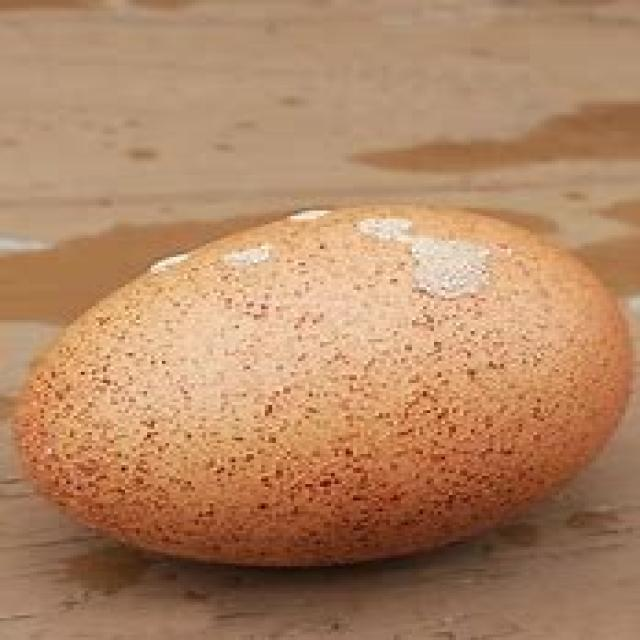Calcium Deposit Egg: (26, 185, 640, 614)
